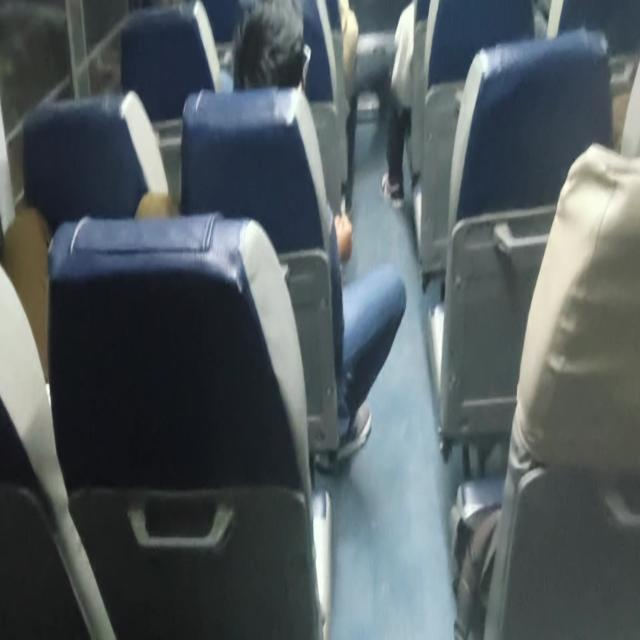person: (230, 8, 314, 106)
